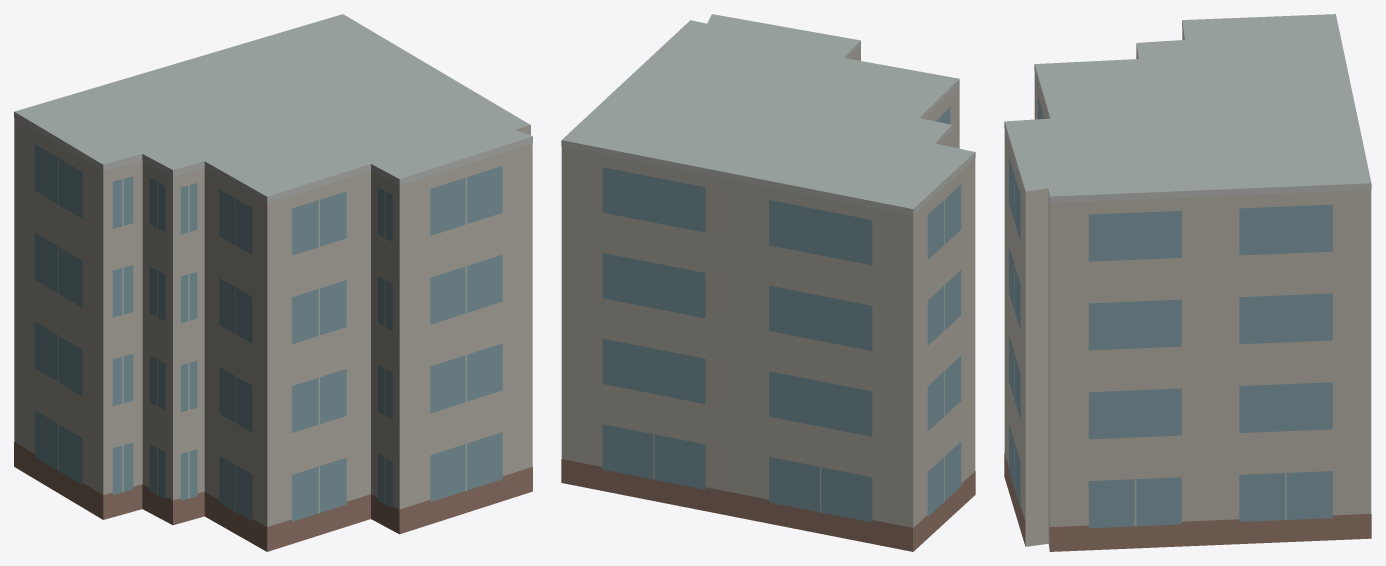
File: survey-upis-32750497.glb
3 views of the same model, side by side, from view 1: azimuth 30°, elevation 25°; view 2: azimuth 150°, elevation 25°; view 3: azimuth 270°, elevation 25° (orthographic). The views are drawn at different scales.
Parts seen in each view (by area): view 1: survey-upis-32750497.tmp; view 2: survey-upis-32750497.tmp; view 3: survey-upis-32750497.tmp.
Boxes of the visible parts, x1,y1,x2,y2 form: survey-upis-32750497.tmp: [14, 14, 532, 551]; survey-upis-32750497.tmp: [561, 14, 975, 551]; survey-upis-32750497.tmp: [1004, 14, 1371, 551].
Size of the model in its own units: 14.55 by 13.2 by 12.37.
